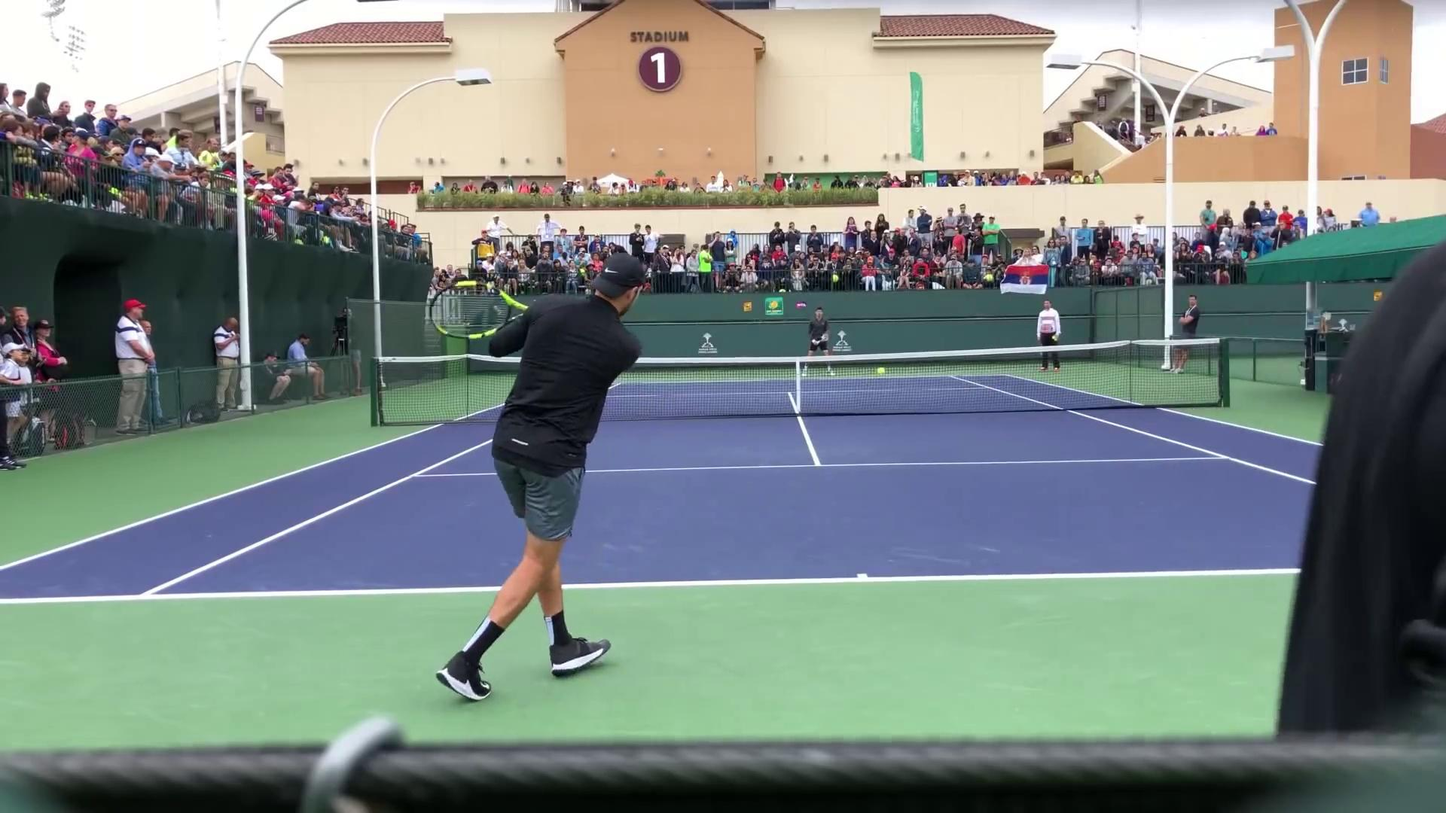ball: (874, 367, 886, 375)
